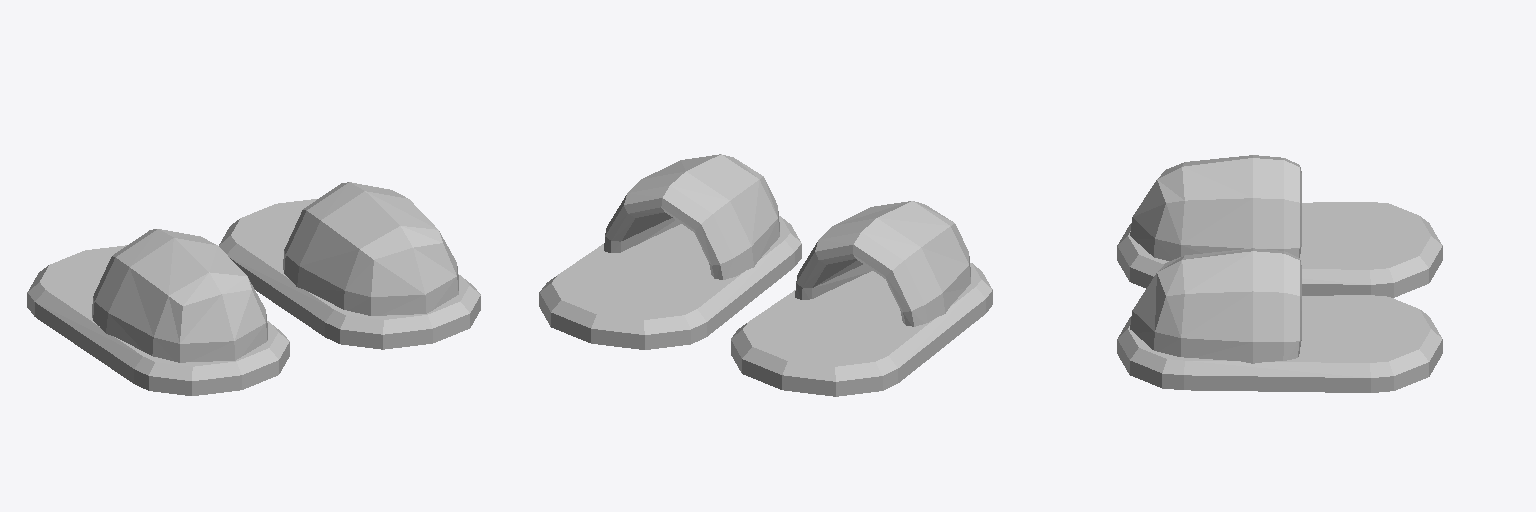
Rendered from slippers.obj.
3 renders of one model, left to right at view 1: azimuth 30°, elevation 25°; view 2: azimuth 150°, elevation 25°; view 3: azimuth 270°, elevation 25°, orthographic.
Parts seen in each view (by area): view 1: slippers; view 2: slippers; view 3: slippers.
Part boxes in pixels (bbox=[...]): slippers: bbox=[27, 182, 480, 395]; slippers: bbox=[539, 154, 992, 396]; slippers: bbox=[1117, 155, 1442, 392].
Size of the model in its own units: 0.7354 by 0.2058 by 0.5898.